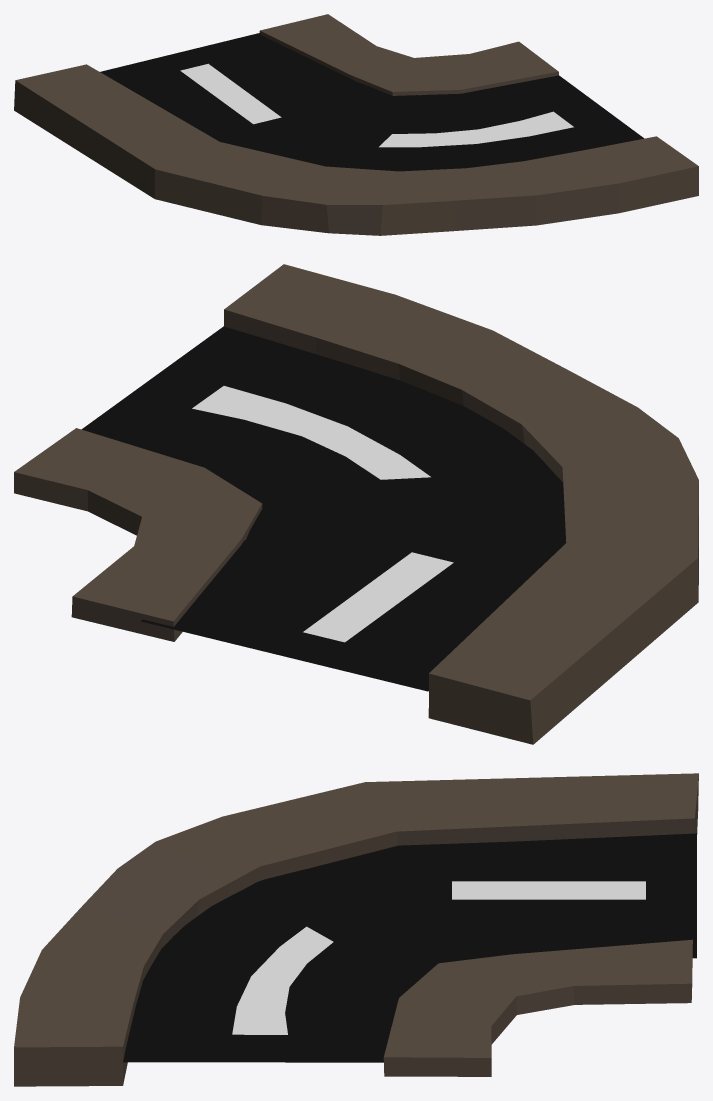
File: ruaCurva.fbx
The picture shows the model from 3 angles, top to bottom: view 1: azimuth 30°, elevation 25°; view 2: azimuth 150°, elevation 25°; view 3: azimuth 270°, elevation 25°; orthographic projection. The views are drawn at different scales.
Parts seen in each view (by area): view 1: Rua curva; view 2: Rua curva; view 3: Rua curva.
Boxes of the visible parts, <box> form: Rua curva: <box>14,14,698,235</box>; Rua curva: <box>14,264,698,744</box>; Rua curva: <box>14,773,698,1086</box>.
Bounding box in the file's own units: 491 × 33.1 × 516.
